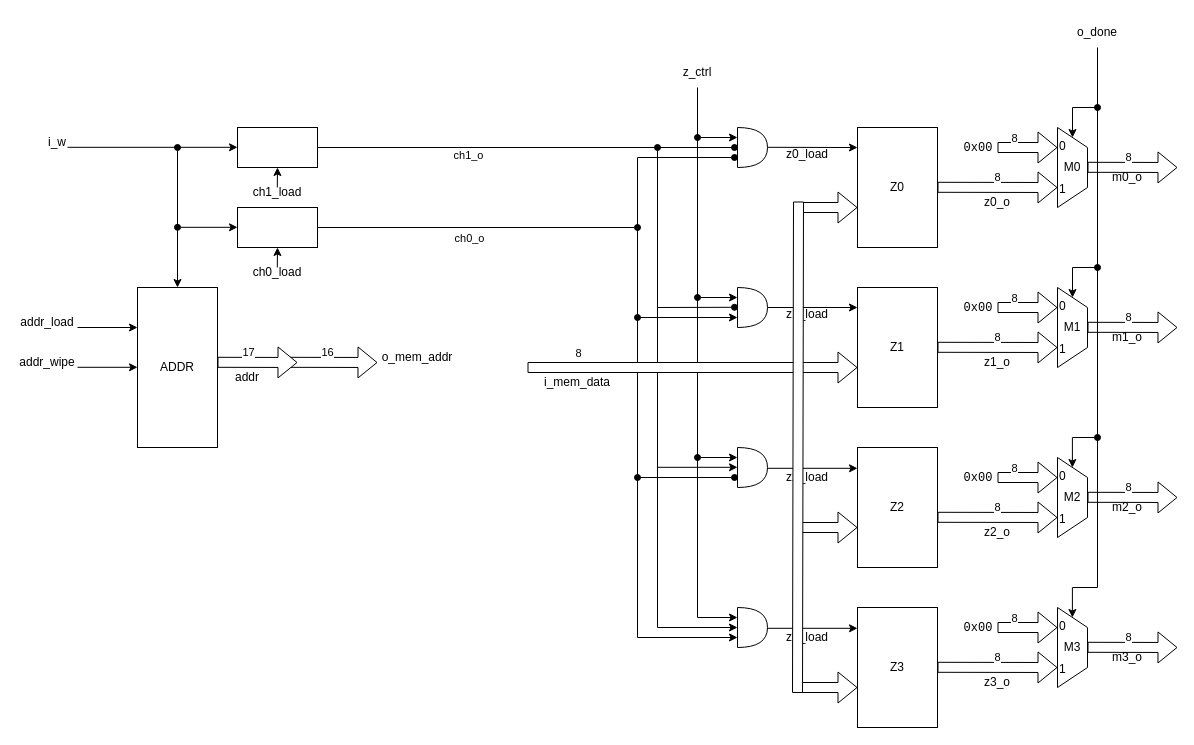
This 1194x745 diagram has some shape labels left out. The centre of each missing label's shape, as x and y in pixels:
CH0 (channel LSB): pixel 277 227
CH1 (channel MSB): pixel 277 147
